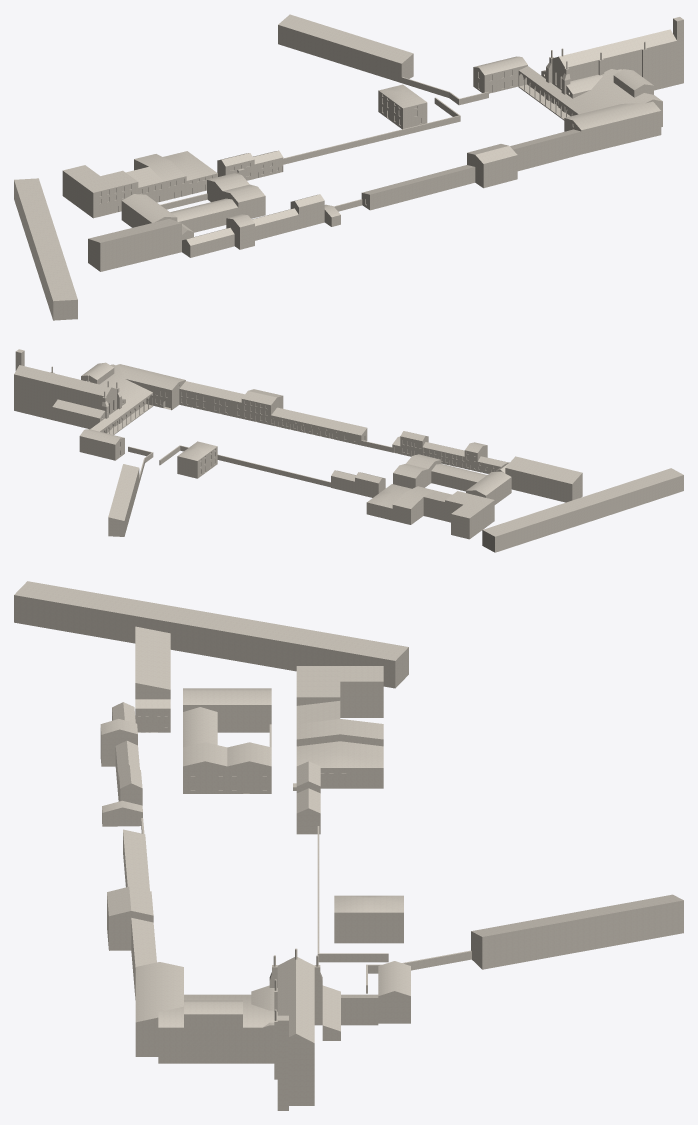
Rendered from Edifici di carta.glb.
3 views of the same model, one above another, from view 1: azimuth 30°, elevation 25°; view 2: azimuth 150°, elevation 25°; view 3: azimuth 270°, elevation 25° (orthographic). The views are drawn at different scales.
Parts seen in each view (by area): view 1: Contesto.001; view 2: Contesto.001; view 3: Contesto.001.
Part boxes in pixels (x1,y1,x2,y2): Contesto.001: [14, 14, 683, 320]; Contesto.001: [14, 349, 683, 552]; Contesto.001: [14, 581, 683, 1110].
Bounding box in the file's own units: 310 × 26.18 × 176.
Materials: 2 (2 with a texture image).
